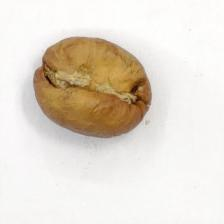NG: (43, 49, 138, 120)
